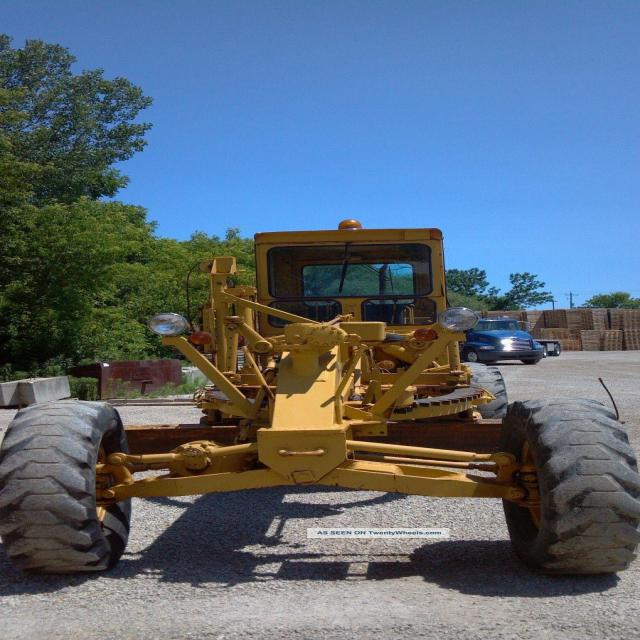buldozerpayloadergrader: (6, 216, 640, 592)
